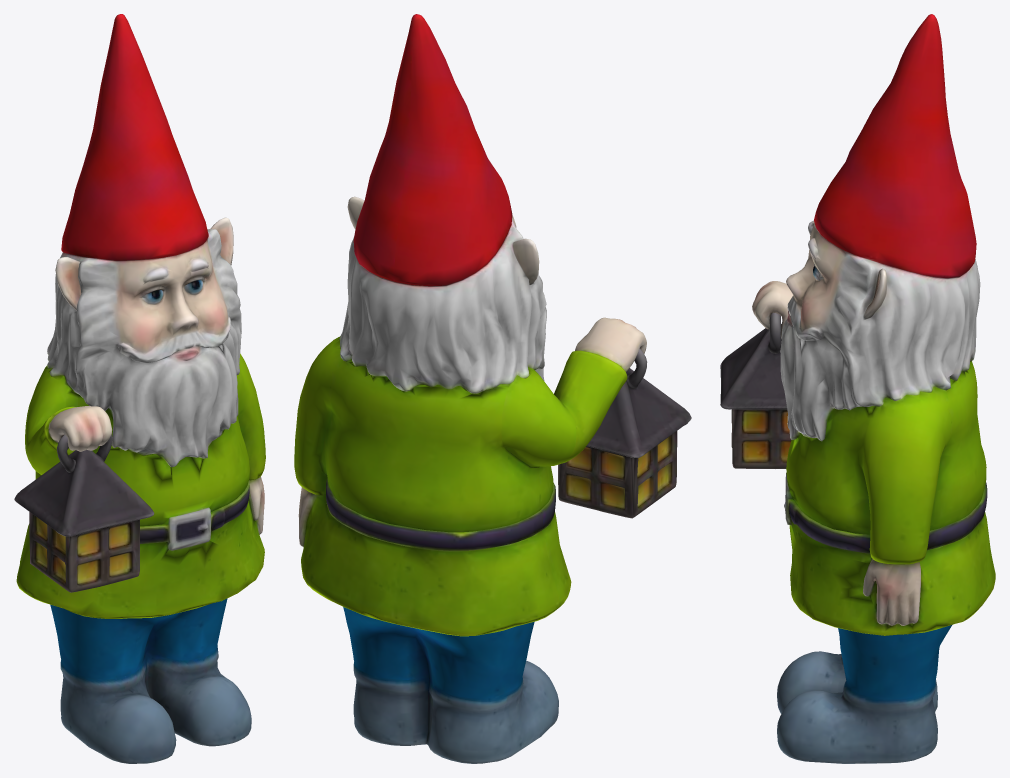
File: garden_gnome.glb
3 renders of one model, left to right at view 1: azimuth 30°, elevation 25°; view 2: azimuth 150°, elevation 25°; view 3: azimuth 270°, elevation 25°, orthographic. The views are drawn at different scales.
Parts seen in each view (by area): view 1: garden_gnome; view 2: garden_gnome; view 3: garden_gnome.
Boxes of the visible parts, x1,y1,x2,y2 form: garden_gnome: [14, 14, 265, 763]; garden_gnome: [294, 14, 691, 763]; garden_gnome: [720, 14, 995, 763].
Size of the model in its own units: 0.2577 by 0.5991 by 0.2097.
1 material, 1 textured.
